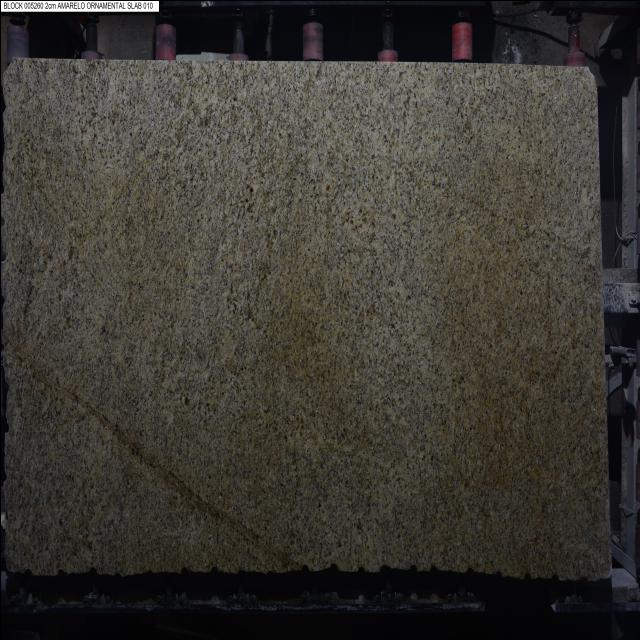chapa: (1, 58, 609, 579)
